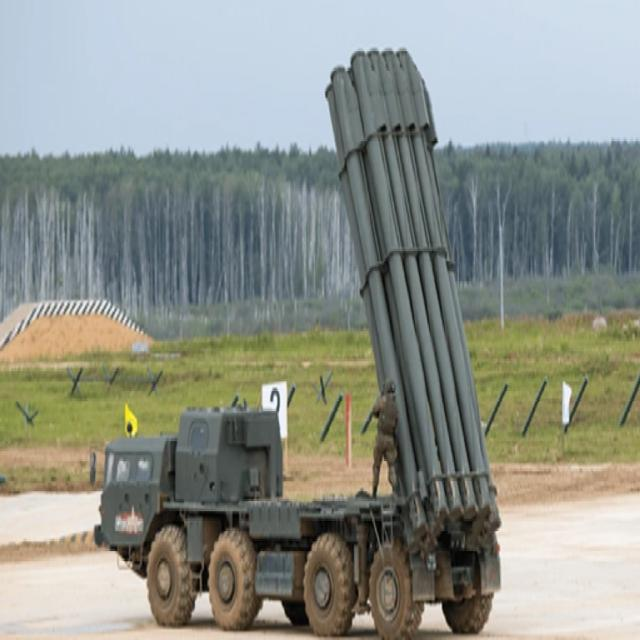MLRS: (89, 45, 502, 637)
